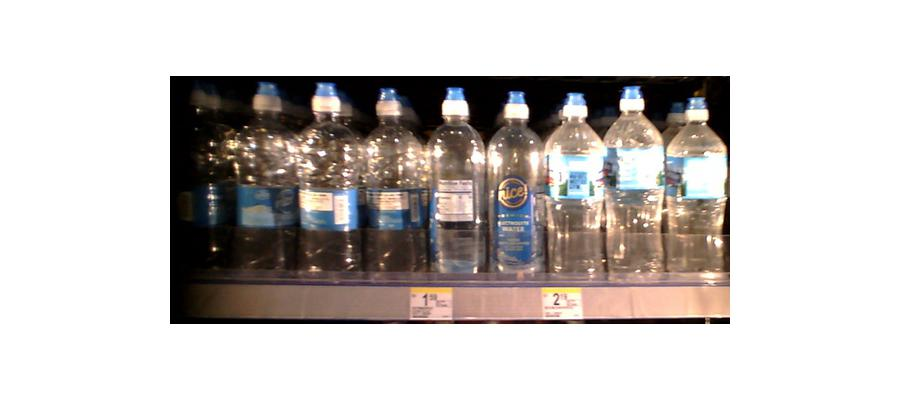bottle: (297, 85, 364, 274), (542, 93, 606, 284), (364, 90, 428, 279), (235, 82, 297, 272), (607, 86, 666, 283), (667, 93, 726, 280), (429, 92, 487, 281), (487, 96, 541, 278), (186, 101, 229, 266)
